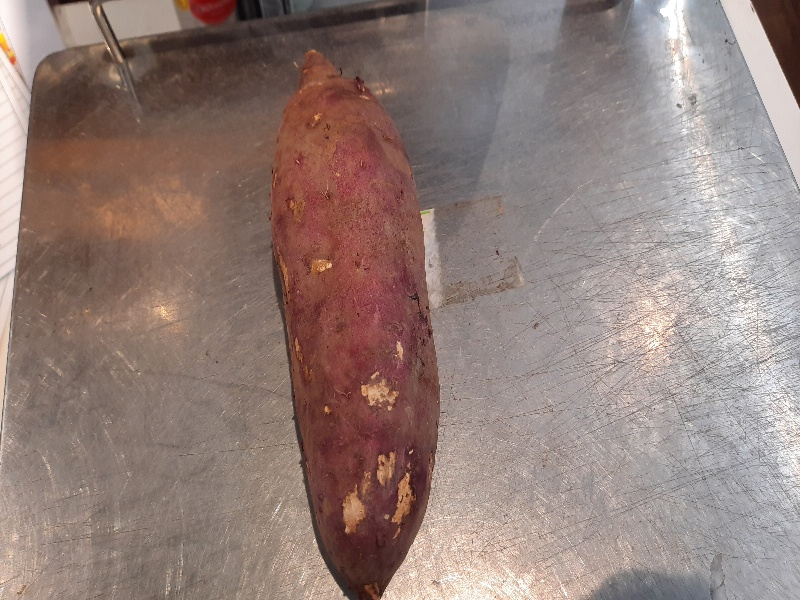vege: (264, 42, 452, 600)
